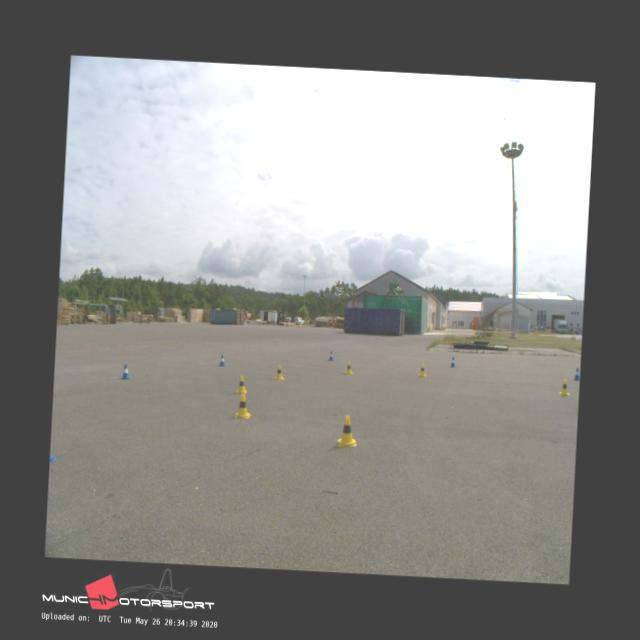blue_cone: (121, 364, 130, 379), (572, 368, 580, 380), (218, 354, 226, 366), (449, 357, 456, 368), (328, 350, 334, 360)
yellow_cone: (338, 415, 358, 446), (234, 394, 252, 418), (235, 374, 248, 392), (558, 378, 570, 396), (274, 364, 284, 380), (344, 361, 352, 373), (418, 364, 426, 376)
